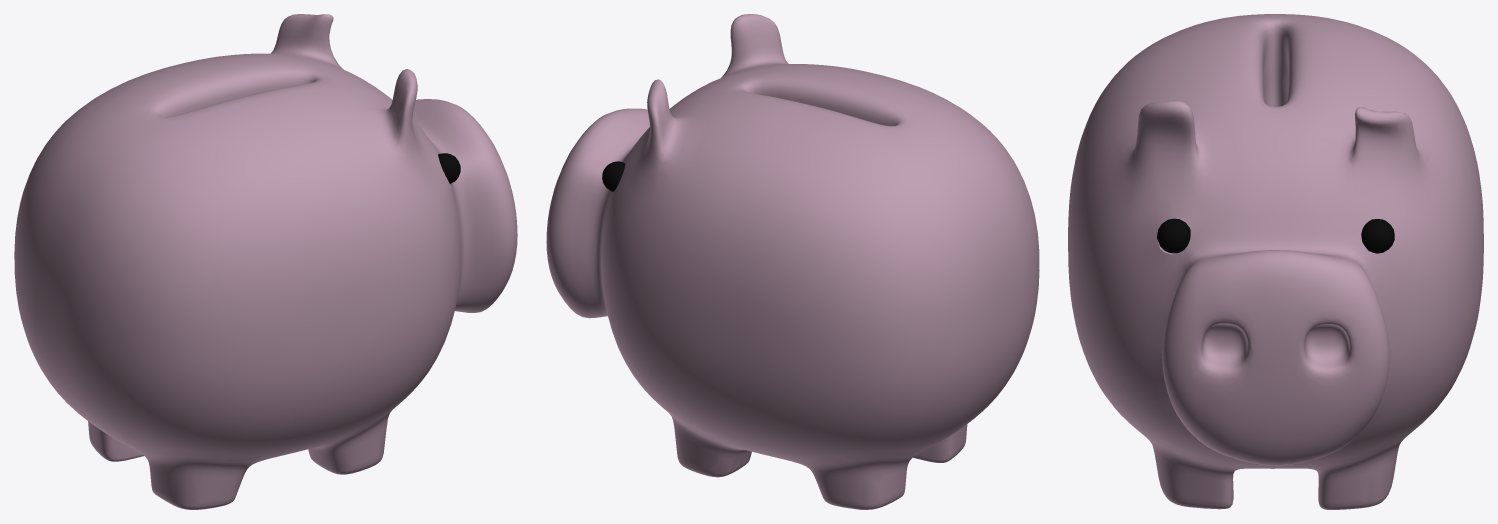
File: PiggyBank.fbx
The picture shows the model from 3 angles, left to right: view 1: azimuth 30°, elevation 25°; view 2: azimuth 150°, elevation 25°; view 3: azimuth 270°, elevation 25°; orthographic projection. The views are drawn at different scales.
Parts seen in each view (by area): view 1: pig.001; view 2: pig.001; view 3: pig.001.
Part boxes in pixels (box(x1,y1,x2,y2)): pig.001: box(14, 14, 517, 509); pig.001: box(546, 14, 1039, 509); pig.001: box(1068, 14, 1483, 509).
Bounding box in the file's own units: 276 × 235 × 210.
